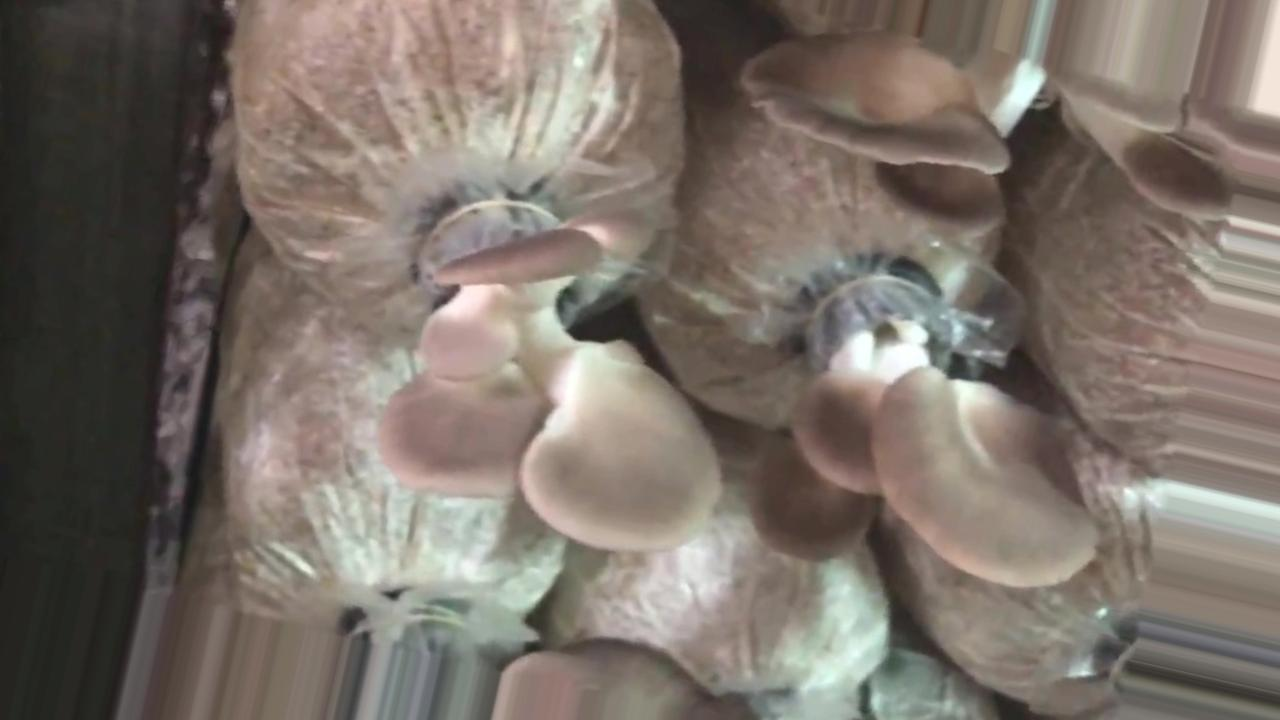nam: (382, 210, 724, 552), (759, 264, 1102, 593), (748, 38, 1011, 218)
